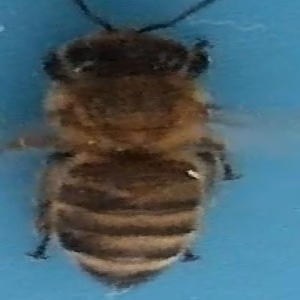bee: (30, 3, 257, 288)
